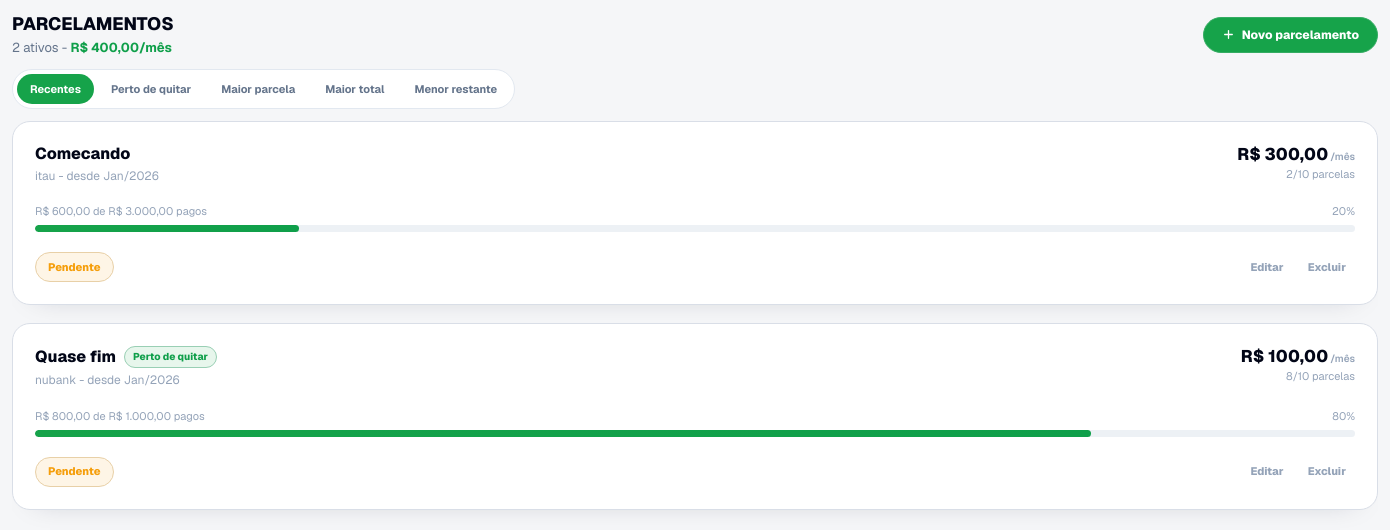
Test: InstallmentsSection.tsx › filters installments close to payoff
Step 1. Click the button "Perto de quitar" → x=151, y=89, box [98,74,204,104]
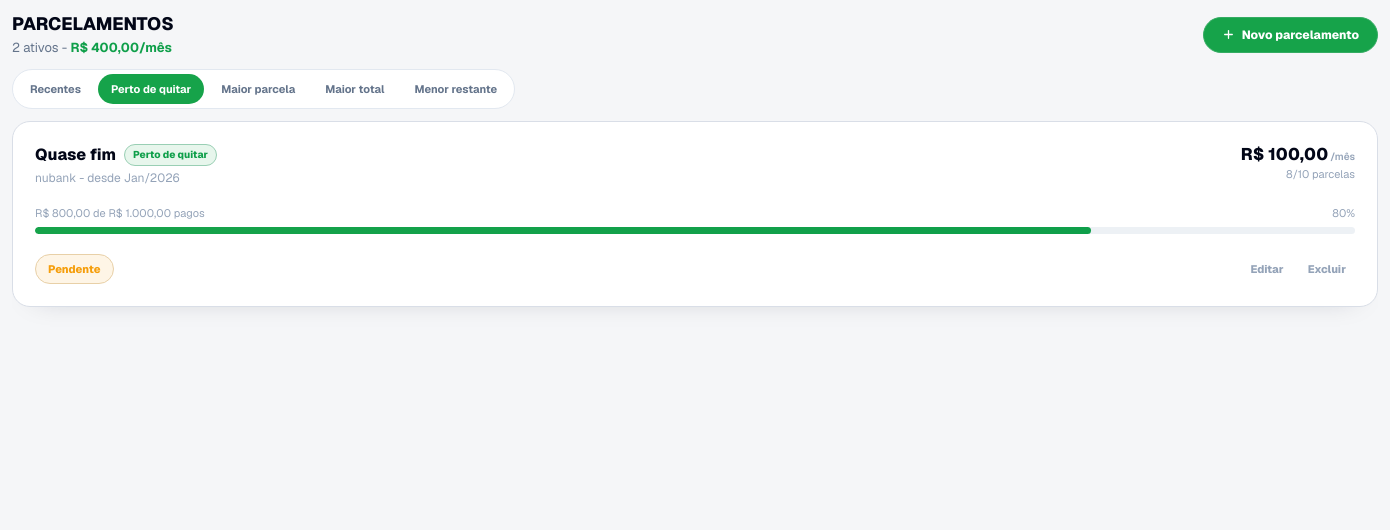
Expected: the heading "Quase fim" is shown, [35,145,116,165]
Expected: the heading "Comecando" is gone
